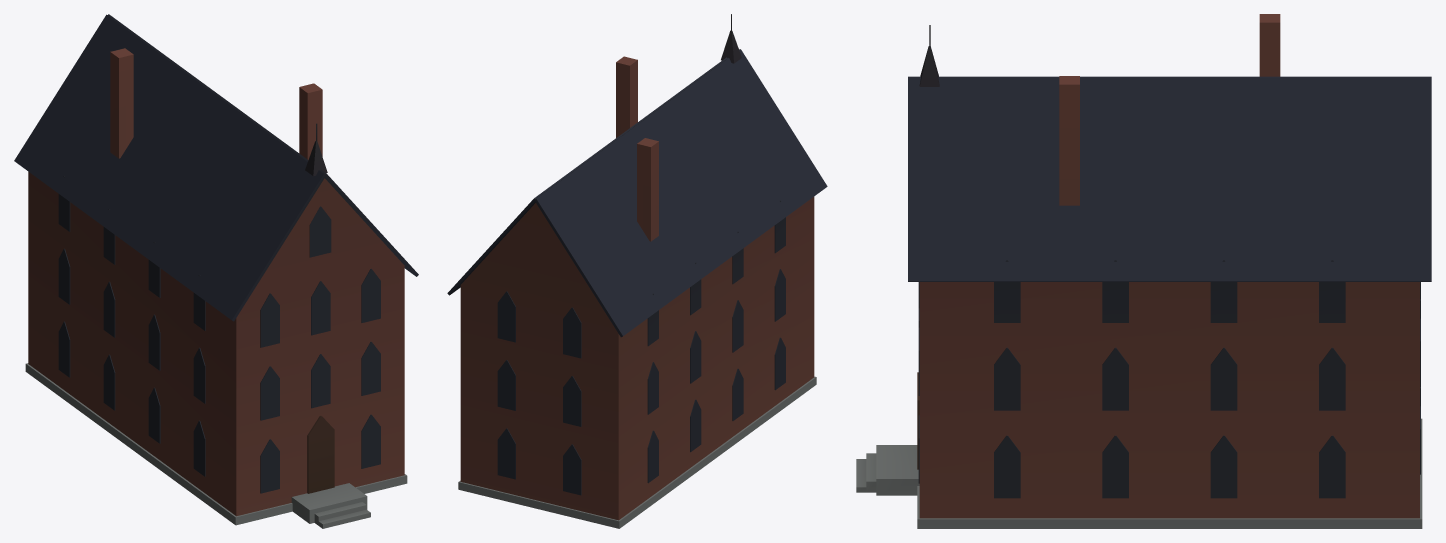
The model's file is shell_wormwood_townhouse_lod1.glb.
3 views of the same model, side by side, from view 1: azimuth 30°, elevation 25°; view 2: azimuth 150°, elevation 25°; view 3: azimuth 270°, elevation 25° (orthographic). The views are drawn at different scales.
Parts seen in each view (by area): view 1: shell_wormwood_townhouse_lod1; view 2: shell_wormwood_townhouse_lod1; view 3: shell_wormwood_townhouse_lod1.
Part boxes in pixels (x1,y1,x2,y2): shell_wormwood_townhouse_lod1: [14, 14, 418, 528]; shell_wormwood_townhouse_lod1: [447, 14, 827, 528]; shell_wormwood_townhouse_lod1: [856, 14, 1431, 528].
Size of the model in its own units: 7.79 by 15 by 17.25.
